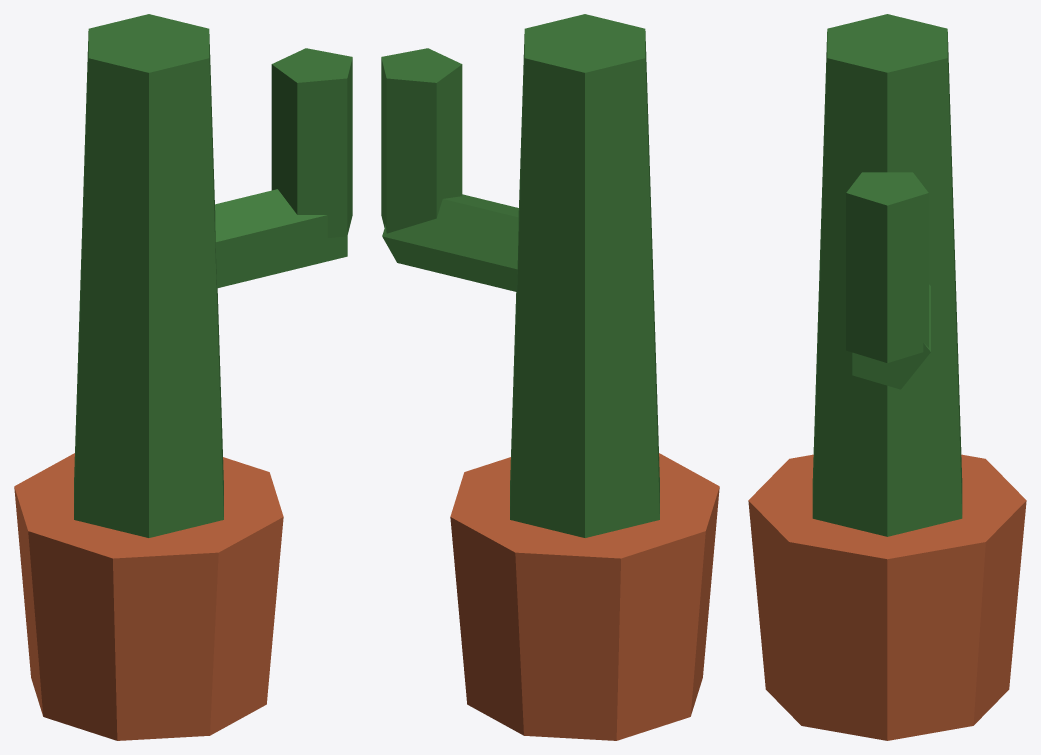
Rendered from GD_Cactus_01.glb.
3 views of the same model, side by side, from view 1: azimuth 30°, elevation 25°; view 2: azimuth 150°, elevation 25°; view 3: azimuth 270°, elevation 25° (orthographic).
Parts seen in each view (by area): view 1: GD_Cactus_01; view 2: GD_Cactus_01; view 3: GD_Cactus_01.
Boxes of the visible parts, x1=… form: GD_Cactus_01: x1=14, y1=14, x2=352, y2=740; GD_Cactus_01: x1=381, y1=14, x2=719, y2=740; GD_Cactus_01: x1=748, y1=14, x2=1026, y2=740.
Bounding box in the file's own units: 0.215 × 0.41 × 0.16.
Materials: 1 (1 with a texture image).
